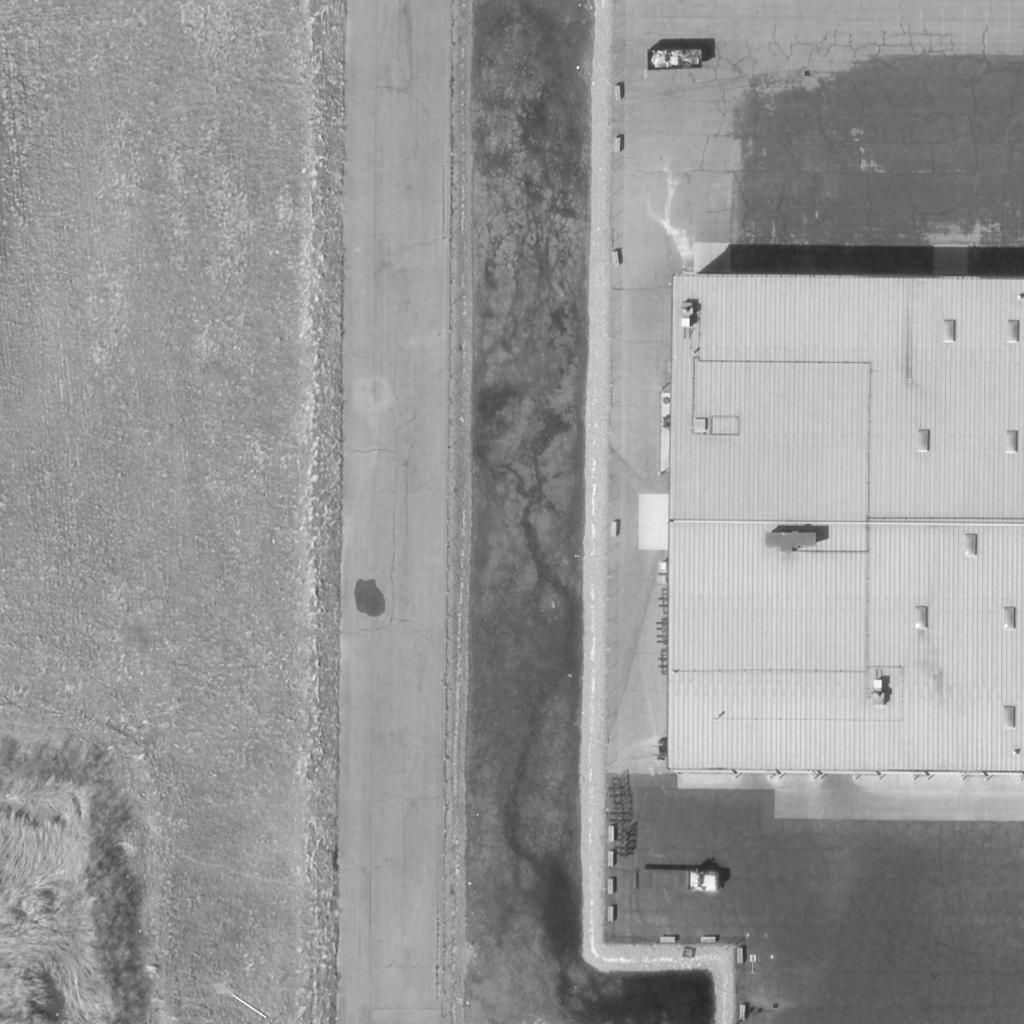vehicle: (636, 867, 720, 895)
